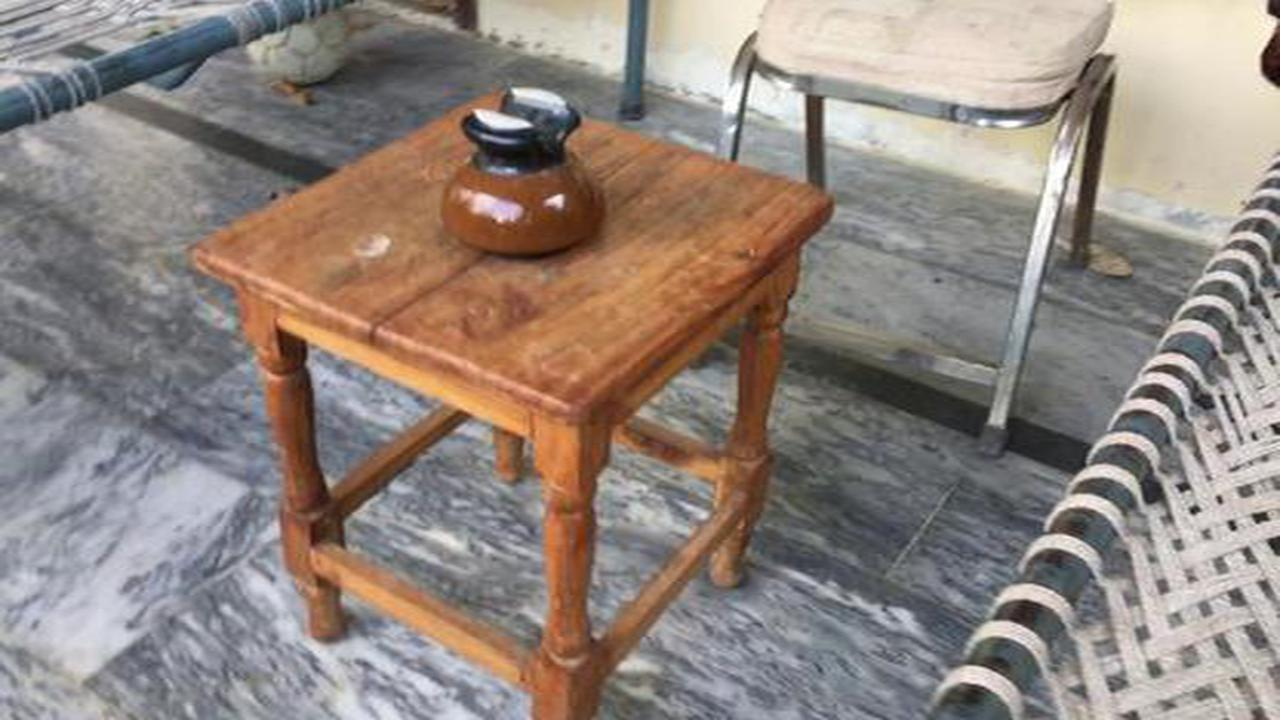insulator_pin: (419, 70, 622, 271)
